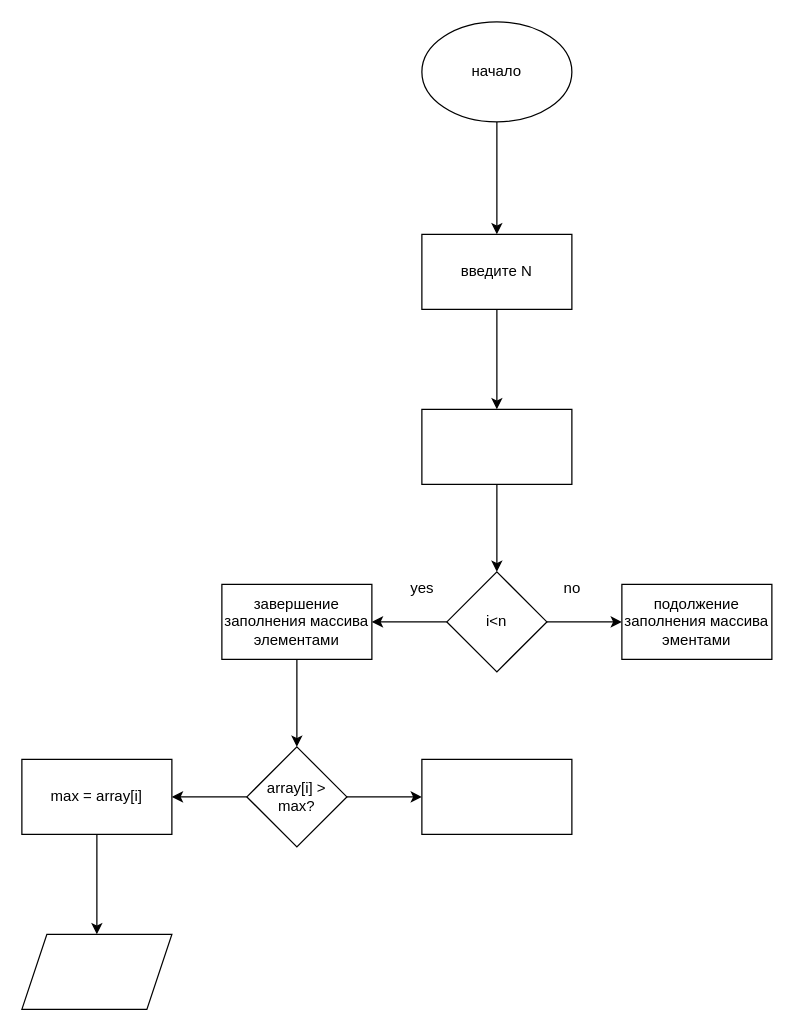
Some shapes in this 794 by 1031 pixel diagram are drawn without their labels. Each missing label, with the box of its shape:
вывод max: (21, 933, 172, 1009)
инициализация переменной массива: (421, 408, 572, 484)
продолжение поиска максимального элемента: (421, 758, 572, 834)
